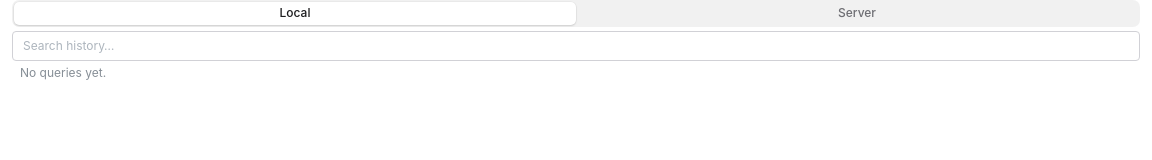
QueryHistory › says no queries match when a search filters out every row
The image size is (1152, 160).
Expected: the text "No queries yet." is shown, [20,65,106,80]
Type "zzz" into the field at x=576, y=46, box [12,31,1140,61]
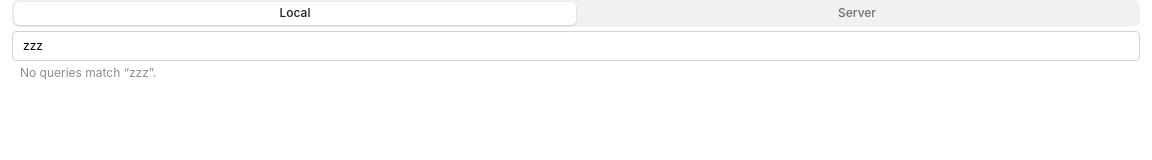
Expected: the text "No queries match “zzz”." is shown, [20,65,156,80]
